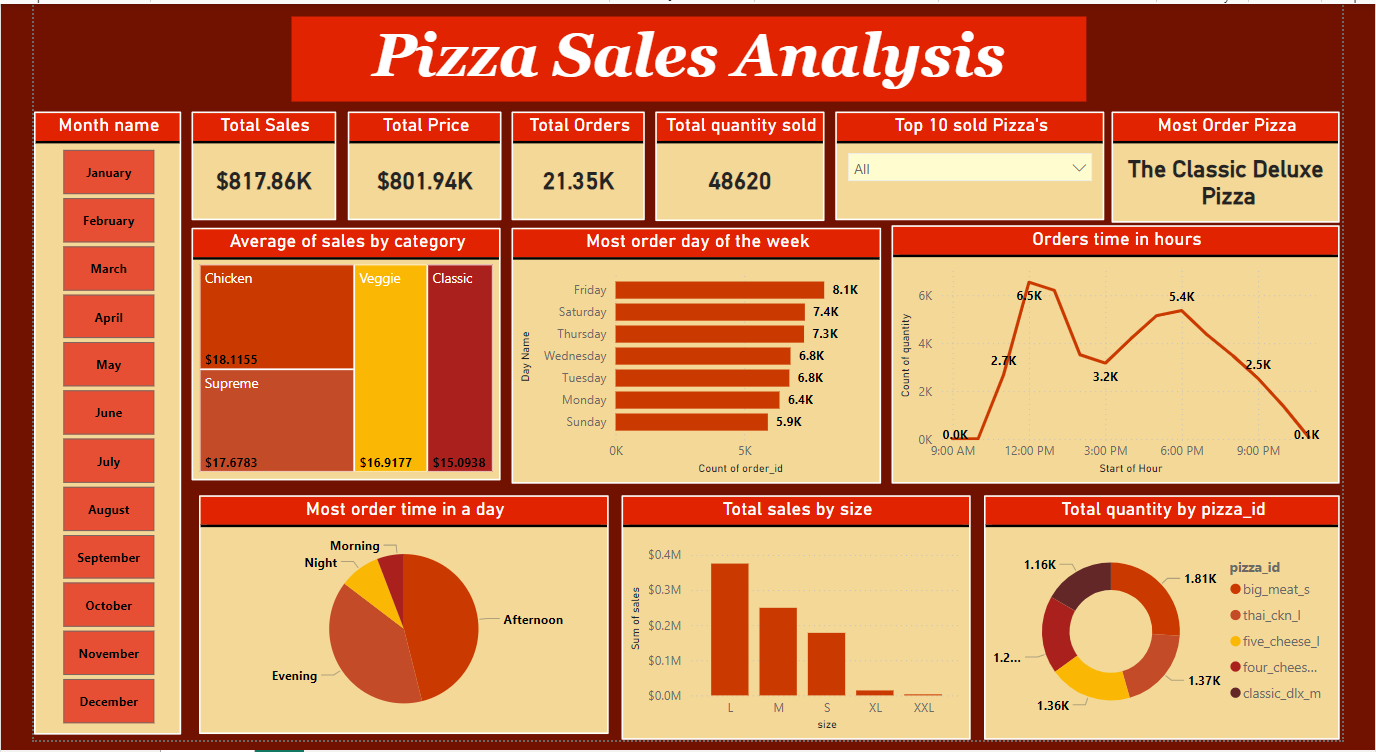

The page's visual inventory and layout, read from the dashboard file:
{"tool":"powerbi","page":{"name":"Page 1","canvas":[1280,720],"ordinal":0},"visuals":[{"type":"card","title":"Total Orders","fields":{"Values":["Count(order_details.order_id)"]},"box":[466.7,104.9,130.4,106.2],"z":0},{"type":"lineChart","title":"Orders time in hours","fields":{"Category":["orders.Start of Hour"],"Y":["CountNonNull(order_details.quantity)"]},"box":[839.2,216.5,438.4,252.8],"z":1000},{"type":"card","title":"Total Sales","fields":{"Values":["Sum(order_details.sales)"]},"box":[154.7,104.9,141.2,106.2],"z":2000},{"type":"card","title":"Most Order Pizza ","fields":{"Values":["pizza_type.MostOrderedPizzaAlt"]},"box":[1054.3,104.9,223.2,108.9],"z":3000},{"type":"treemap","fields":{"Group":["pizza_type.category"],"Values":["Avg(order_details.sales)"]},"box":[154.7,219.2,302.6,247.4],"z":4000},{"type":"pieChart","title":"Most order time in a day","fields":{"Category":["orders.Time2"],"Y":["Count(order_details.order_id)"]},"box":[161.4,480.1,400.8,234],"z":5000},{"type":"barChart","title":"Most order day of the week","fields":{"Category":["orders.Day Name"],"Y":["CountNonNull(order_details.order_id)"]},"box":[466.7,219.2,361.8,250.1],"z":6000},{"type":"card","title":"Total quantity sold","fields":{"Values":["CountNonNull(order_details.quantity)"]},"box":[607.9,104.9,165.4,107.6],"z":7000},{"type":"card","title":"Total Price","fields":{"Values":["Sum(order_details.pizza.price)"]},"box":[306.6,104.9,150.6,106.2],"z":8000},{"type":"columnChart","title":"Total sales by size","fields":{"Category":["pizza.size"],"Y":["Sum(order_details.sales)"]},"box":[574.2,480.1,341.6,239.4],"z":9000},{"type":"donutChart","title":"Total quantity by pizza_id","fields":{"Category":["order_details.pizza_id"],"Y":["CountNonNull(order_details.quantity)"]},"box":[929.3,480.1,348.3,239.4],"z":10000},{"type":"slicer","title":"Top 10 sold Pizza''s","fields":{"Values":["pizza_type.name"]},"box":[784,104.9,263.6,106.2],"z":11000},{"type":"slicer","title":"Month name","fields":{"Values":["orders.Month Name"]},"box":[0,104.9,143.9,609.2],"z":12000},{"type":"textbox","box":[251.5,12.1,777.3,83.4],"z":13000}]}

Visuals, with their boxes in screenshot pixels (x1, y1, x2, y2), scaled from the page's 1280x720 canvas onto the 1376x752 screenshot:
"Total Orders" card: BBox(502, 110, 642, 220)
"Orders time in hours" lineChart: BBox(902, 226, 1373, 490)
"Total Sales" card: BBox(166, 110, 318, 220)
"Most Order Pizza " card: BBox(1133, 110, 1373, 223)
treemap - pizza_type.category x Avg(order_details.sales): BBox(166, 229, 492, 487)
"Most order time in a day" pieChart: BBox(174, 501, 604, 746)
"Most order day of the week" barChart: BBox(502, 229, 891, 490)
"Total quantity sold" card: BBox(653, 110, 831, 222)
"Total Price" card: BBox(330, 110, 491, 220)
"Total sales by size" columnChart: BBox(617, 501, 984, 751)
"Total quantity by pizza_id" donutChart: BBox(999, 501, 1373, 751)
"Top 10 sold Pizza''s" slicer: BBox(843, 110, 1126, 220)
"Month name" slicer: BBox(0, 110, 155, 746)
textbox: BBox(270, 13, 1106, 100)
